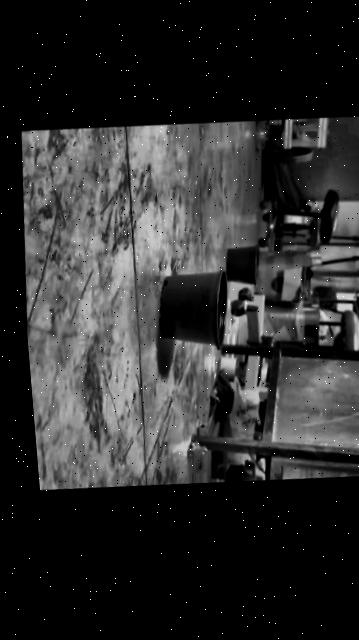pot: (152, 265, 231, 354), (222, 244, 260, 288)
